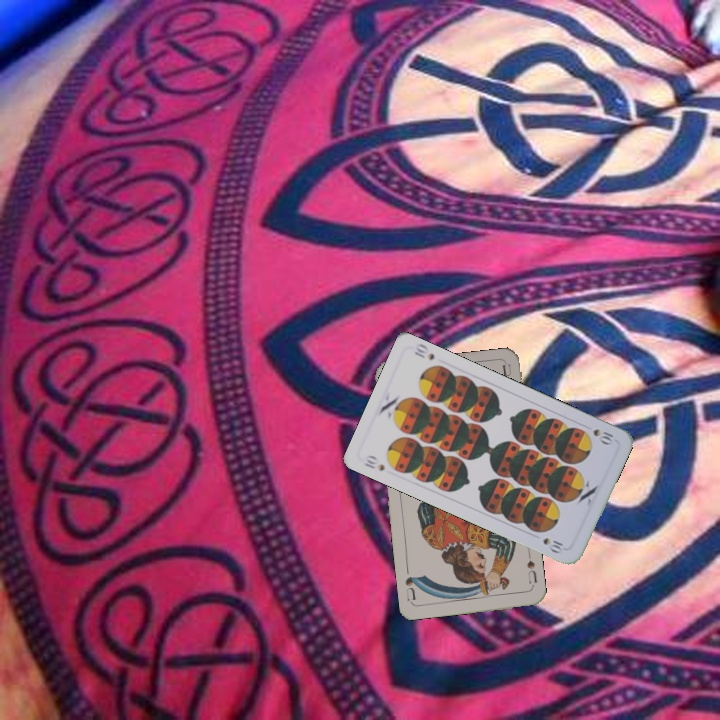S10: (589, 425, 617, 448), (360, 451, 387, 474)
SU: (523, 550, 539, 590)
